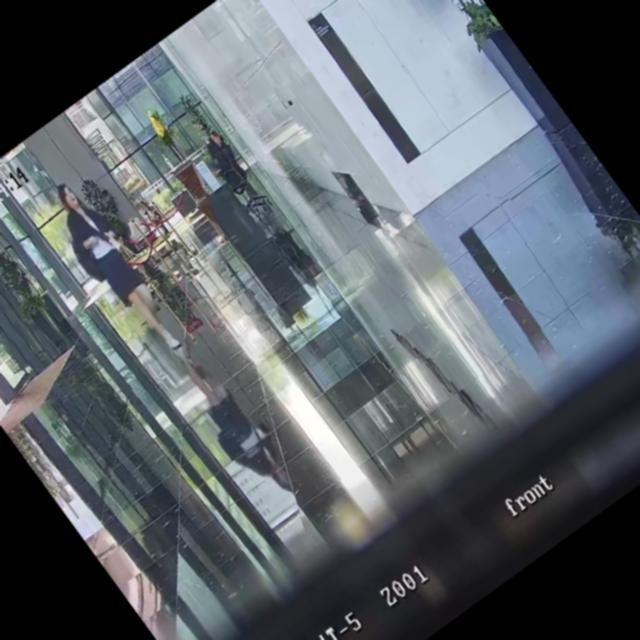person: (34, 174, 196, 368), (199, 136, 243, 188), (136, 196, 172, 238), (208, 128, 230, 152)
